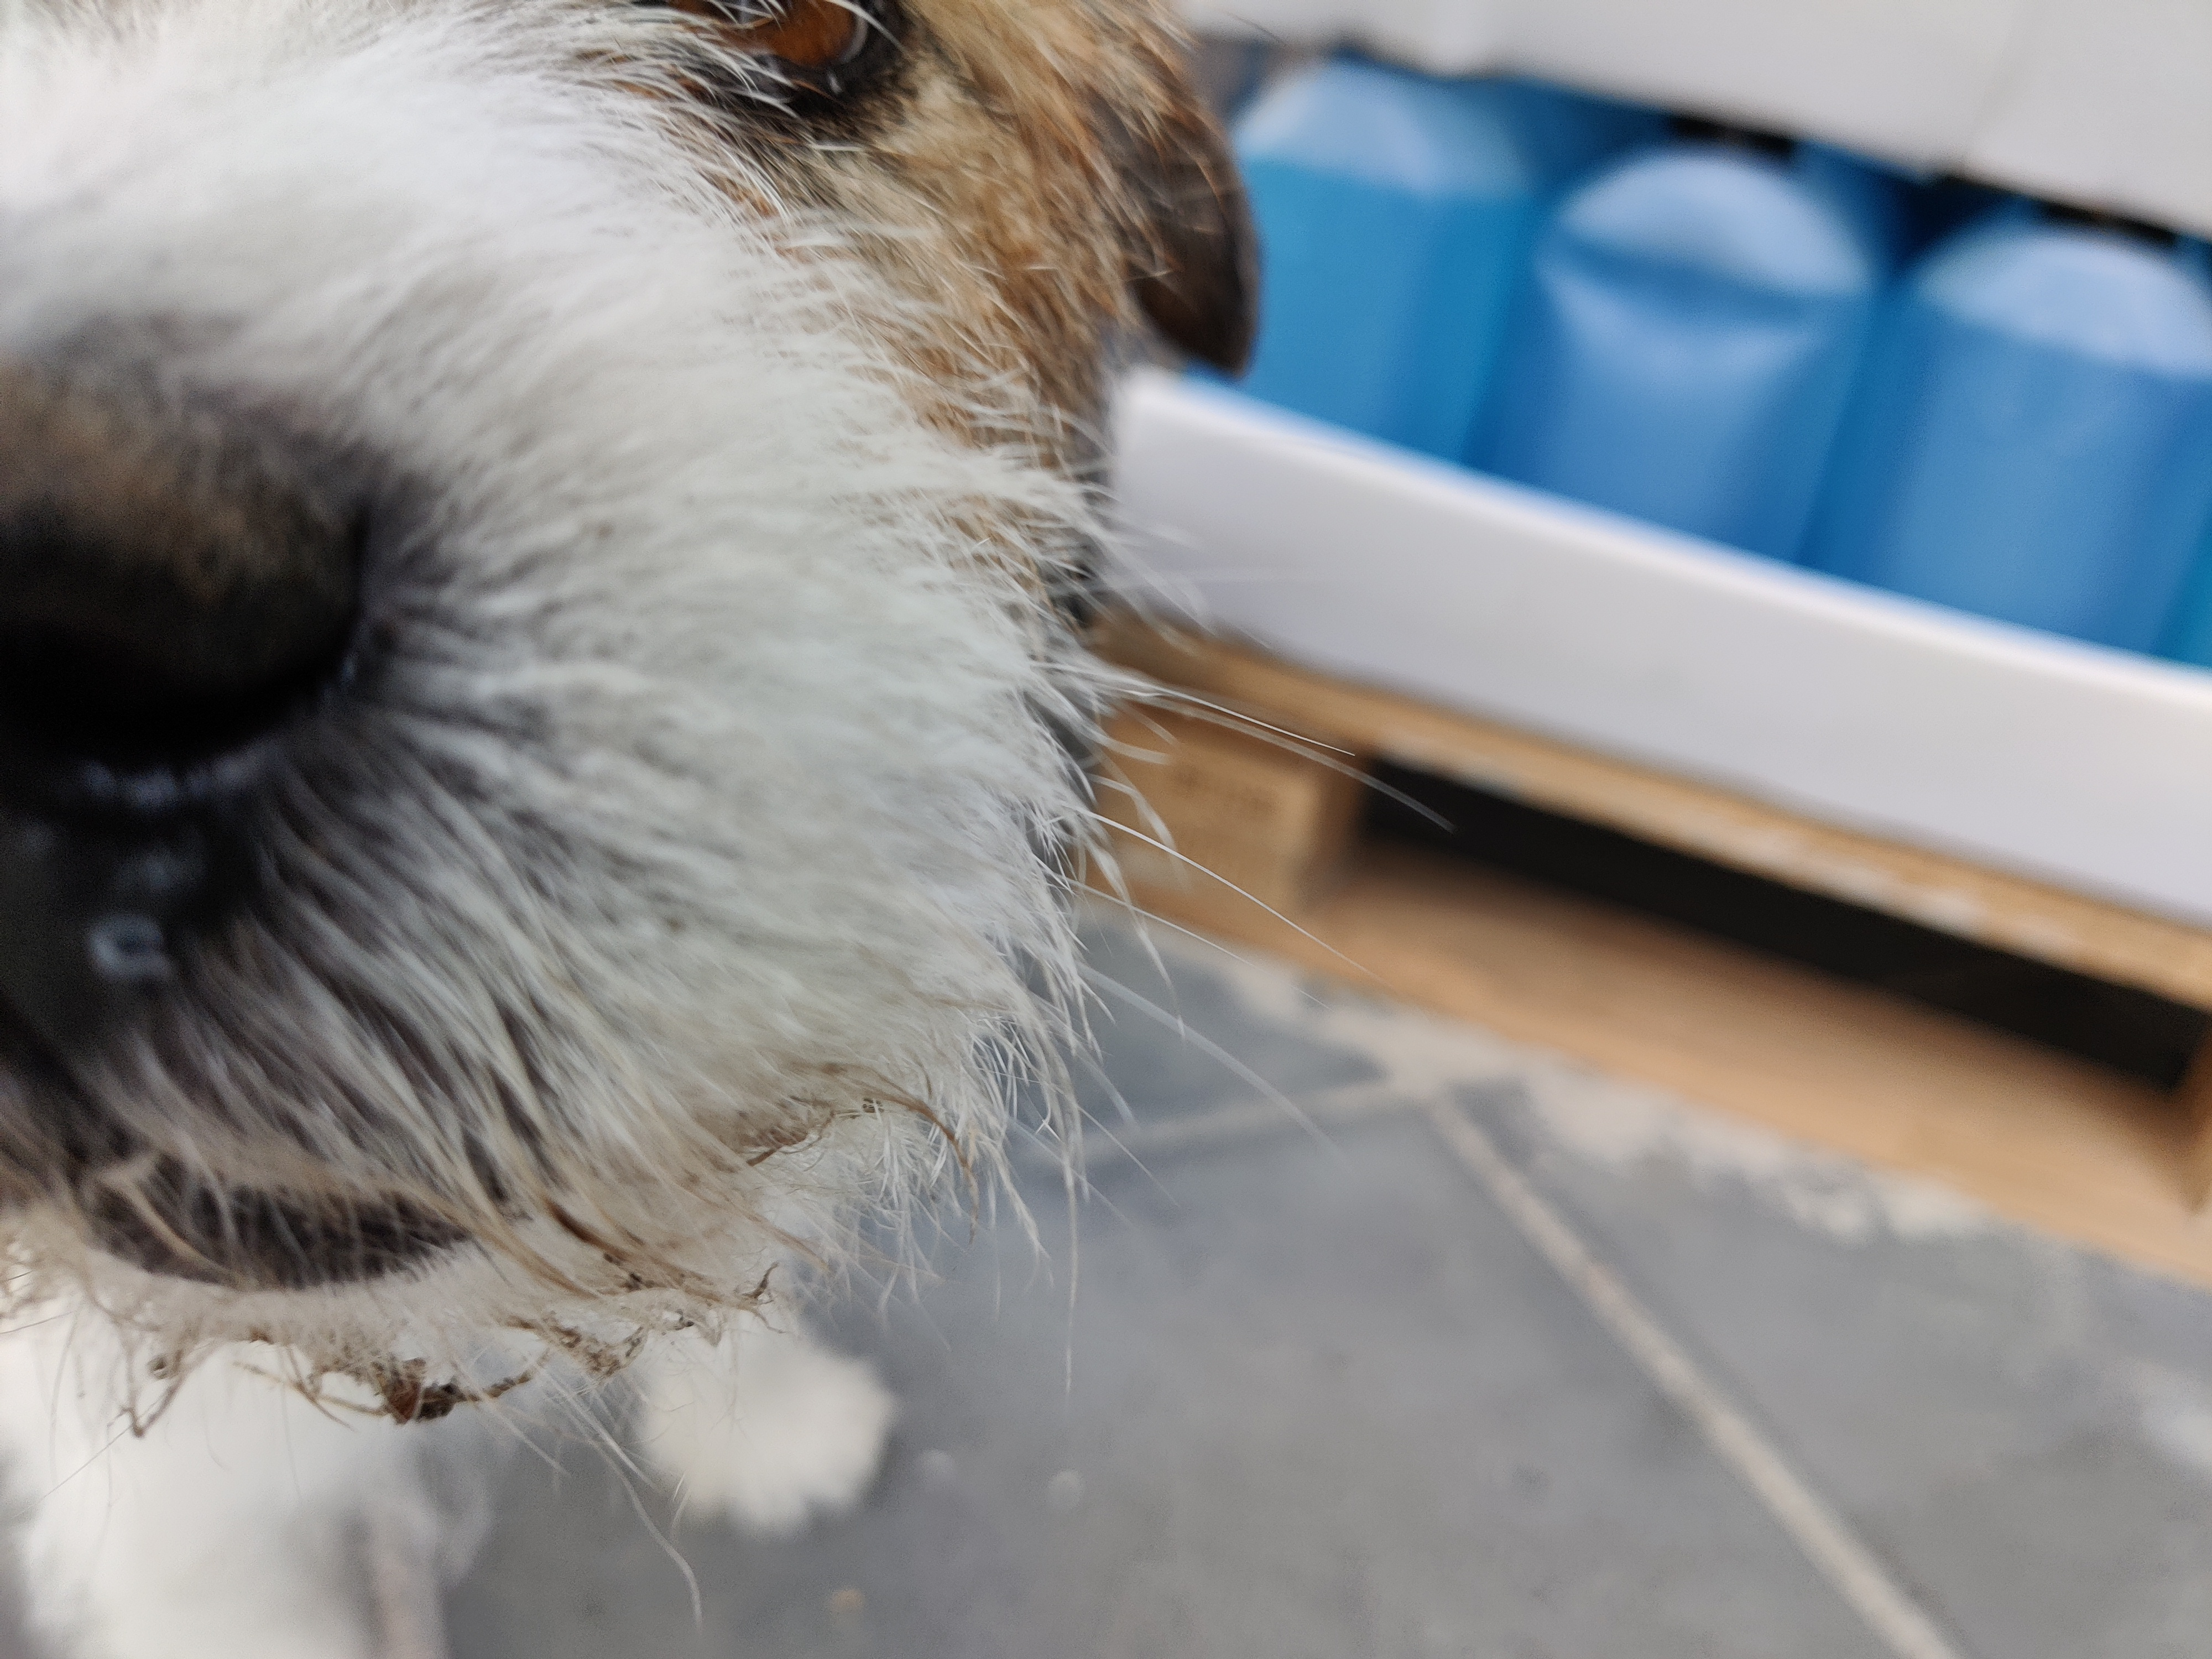Dog: (0, 0, 1266, 1659)
